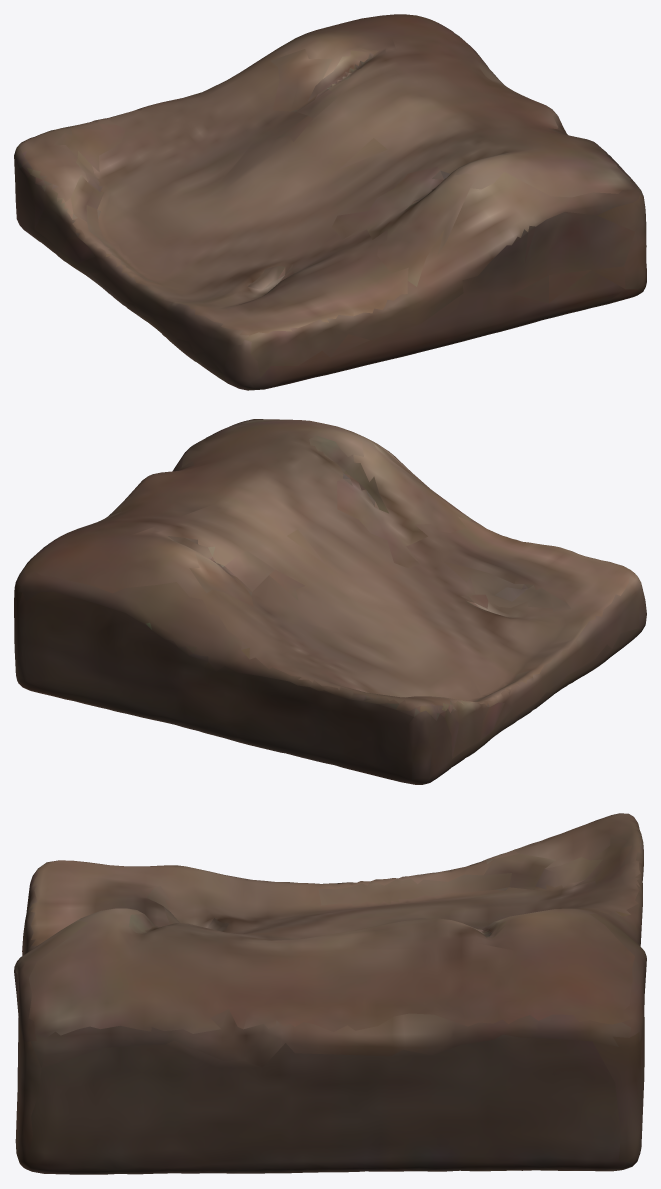
Rendered from m27_terra_marrom.glb.
3 views of the same model, one above another, from view 1: azimuth 30°, elevation 25°; view 2: azimuth 150°, elevation 25°; view 3: azimuth 270°, elevation 25° (orthographic). The views are drawn at different scales.
Visible parts, largest first — view 1: m27_terra_marrom; view 2: m27_terra_marrom; view 3: m27_terra_marrom.
Boxes of the visible parts, x1=… form: m27_terra_marrom: x1=14, y1=14, x2=646, y2=390; m27_terra_marrom: x1=14, y1=419, x2=646, y2=784; m27_terra_marrom: x1=14, y1=813, x2=646, y2=1174.
Size of the model in its own units: 0.9925 by 0.341 by 0.9939.
1 material, 1 textured.
